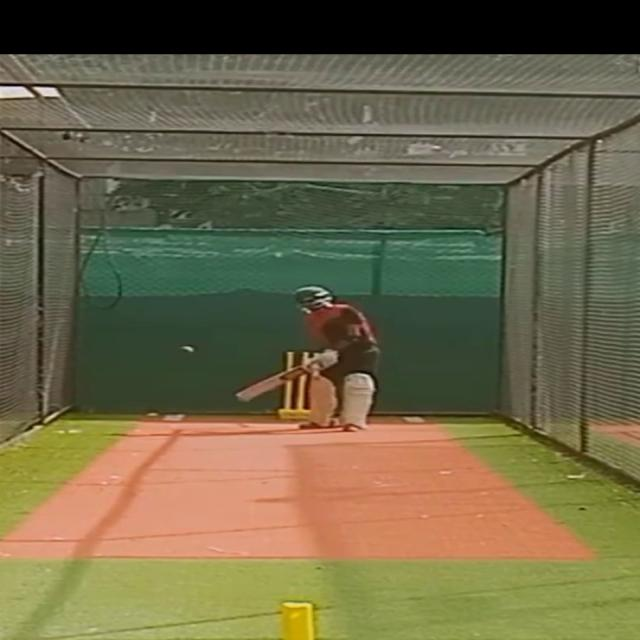ball: (176, 344, 194, 354)
stump: (276, 351, 313, 418)
